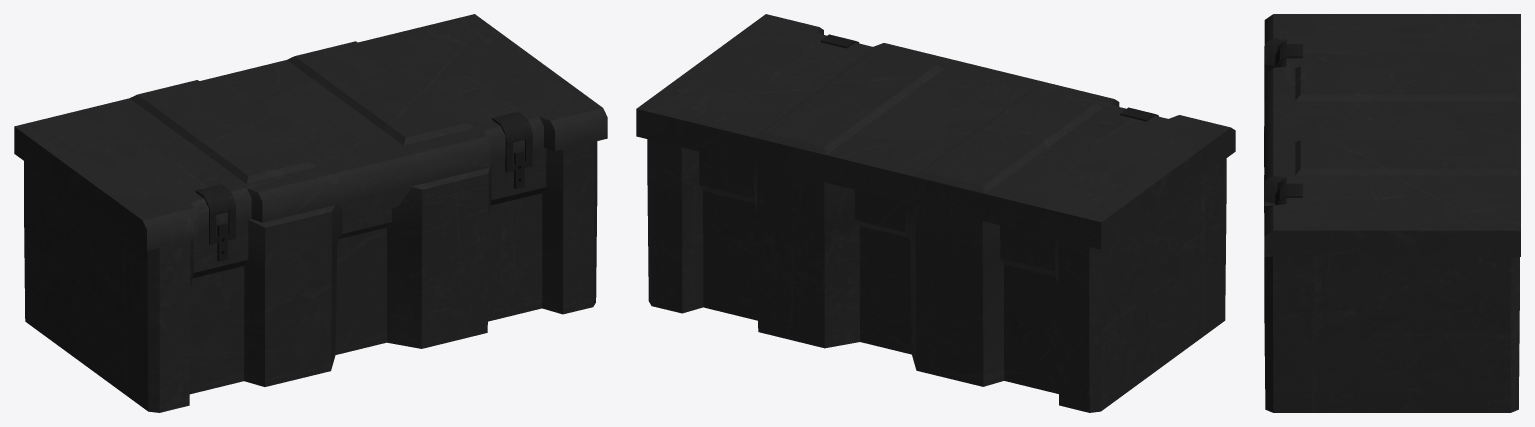
The model's file is Military_Crate.FBX.
The picture shows the model from 3 angles, left to right: view 1: azimuth 30°, elevation 25°; view 2: azimuth 150°, elevation 25°; view 3: azimuth 270°, elevation 25°; orthographic projection. The views are drawn at different scales.
Visible parts, largest first — view 1: Object002; view 2: Object002; view 3: Object002.
Boxes of the visible parts, x1,y1,x2,y2 form: Object002: (14,14,607,412); Object002: (636,14,1235,412); Object002: (1264,14,1520,412).
Bounding box in the file's own units: 40.57 × 16.61 × 20.32.
1 material, 1 textured.
